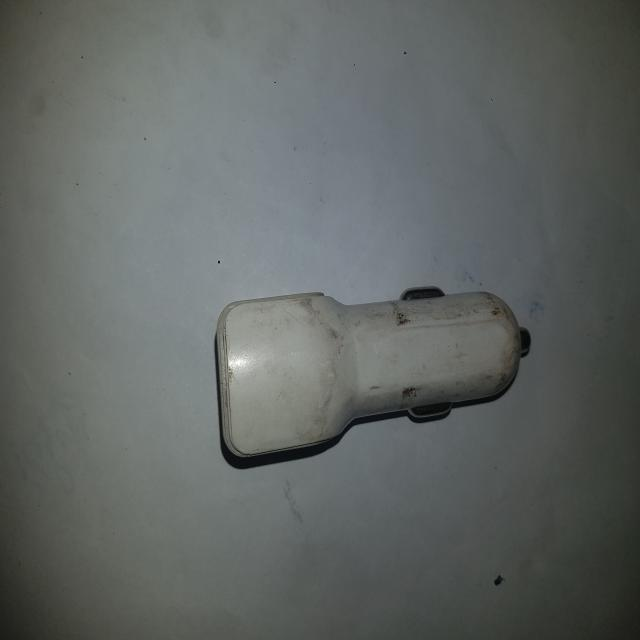electronic: (214, 283, 531, 462)
